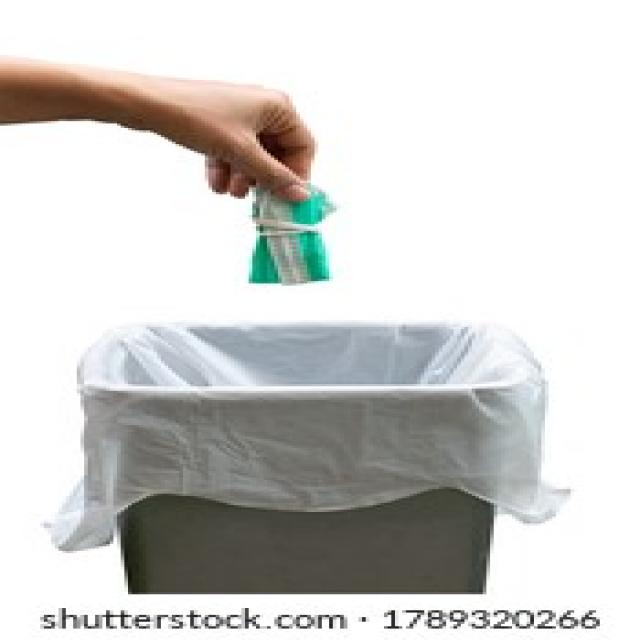non-organic waste: (212, 180, 359, 311)
